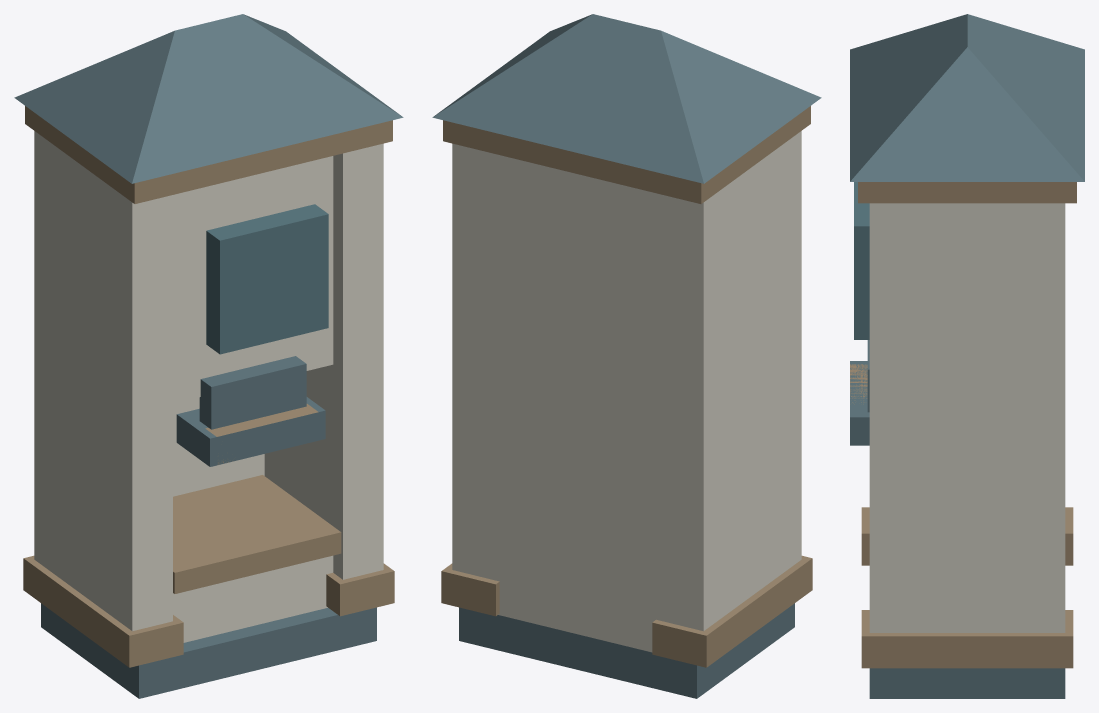
File: range_ball_dispenser_02.glb
3 renders of one model, left to right at view 1: azimuth 30°, elevation 25°; view 2: azimuth 150°, elevation 25°; view 3: azimuth 270°, elevation 25°, orthographic.
Visible parts, largest first — view 1: Range_ball_dispenser_02; view 2: Range_ball_dispenser_02; view 3: Range_ball_dispenser_02.
Boxes of the visible parts, x1,y1,x2,y2 form: Range_ball_dispenser_02: (14,14,403,698); Range_ball_dispenser_02: (432,14,821,698); Range_ball_dispenser_02: (850,14,1084,698).
Size of the model in its own units: 0.8 by 1.72 by 0.6.
